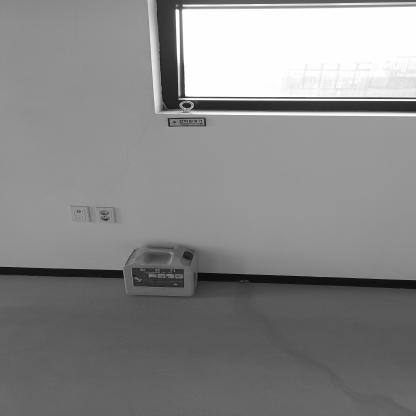DDL: (122, 243, 199, 297)
